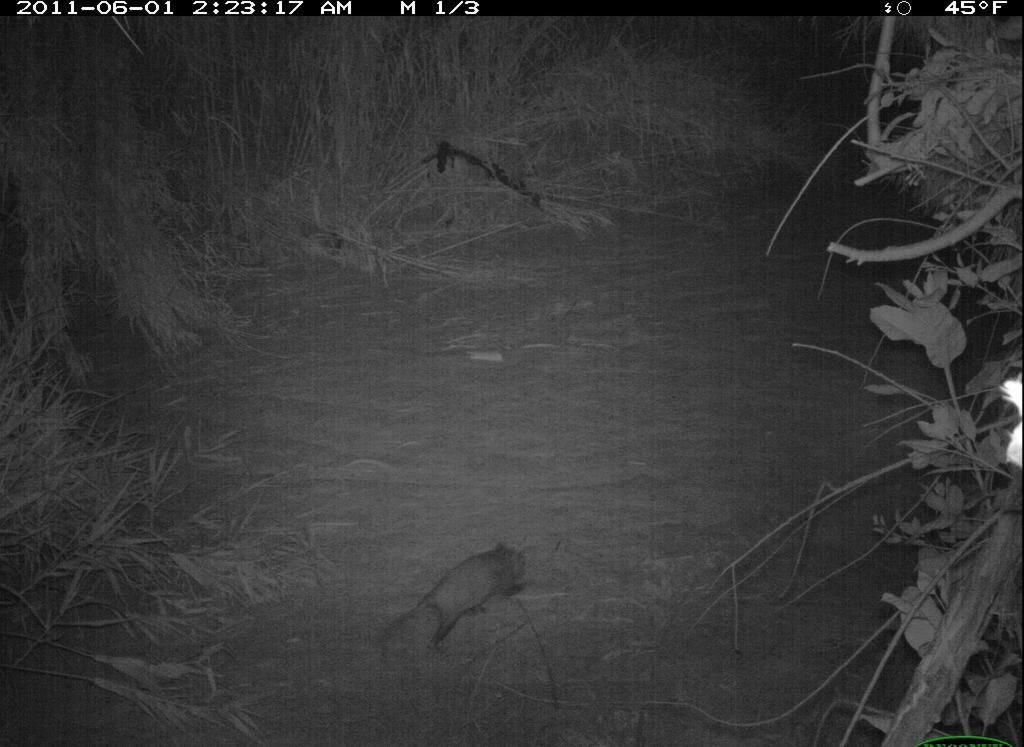opossum: (364, 533, 540, 669)
